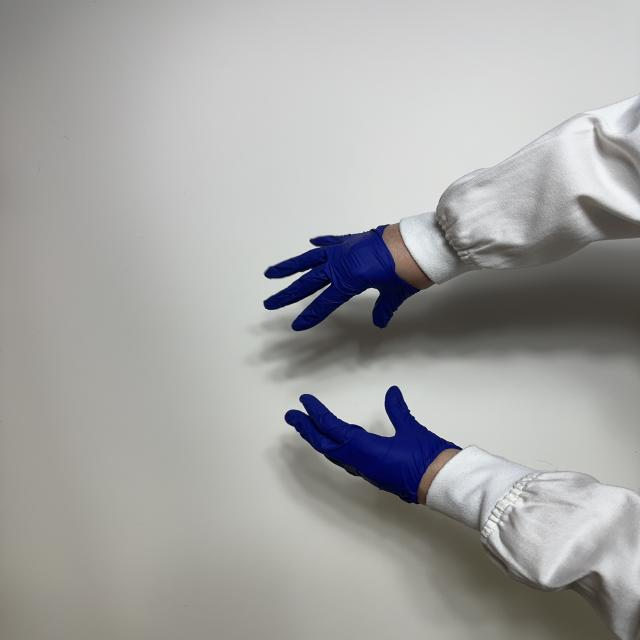glove_not_fitted: (286, 386, 468, 506), (261, 221, 436, 331)
